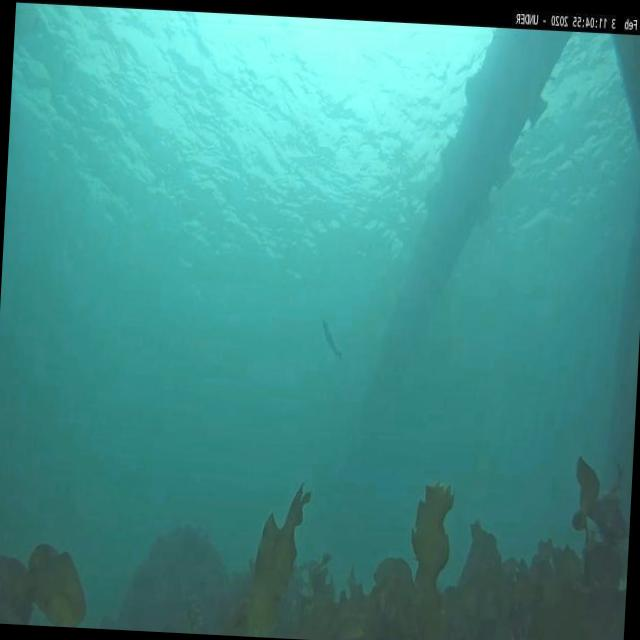fish: (321, 321, 344, 364)
